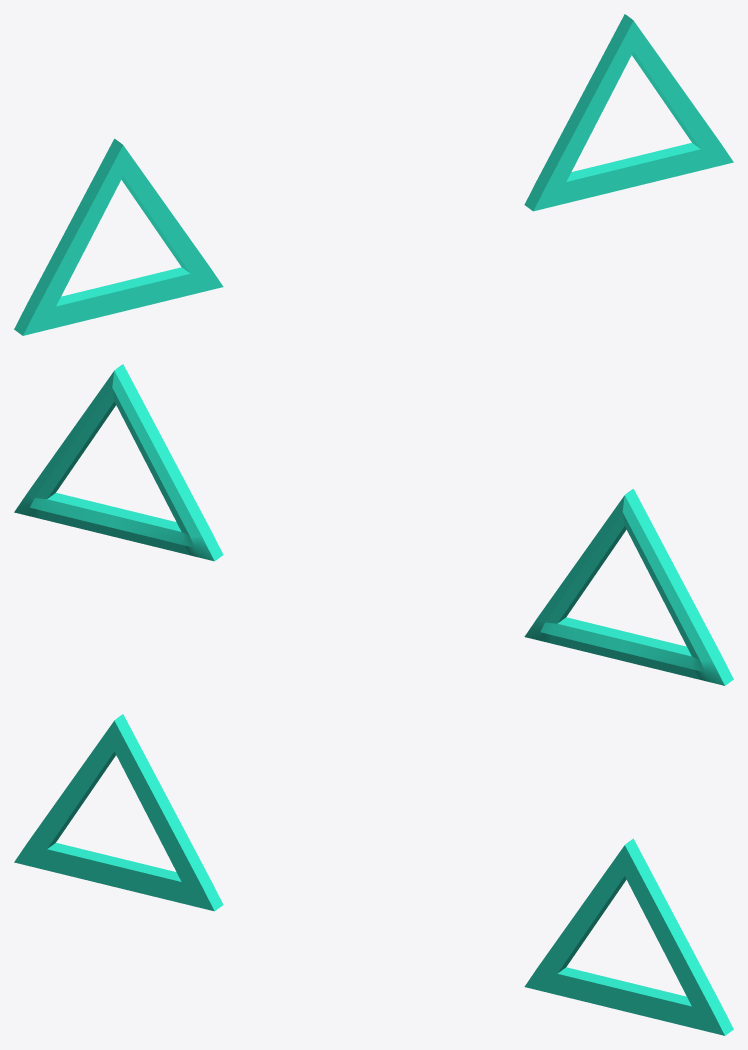
The model's file is yeux_triangle_machine_a_laver.fbx.
3 renders of one model, top to bottom at view 1: azimuth 30°, elevation 25°; view 2: azimuth 150°, elevation 25°; view 3: azimuth 330°, elevation 25°, orthographic.
Parts seen in each view (by area): view 1: Cube.017; view 2: Cube.017; view 3: Cube.017.
Boxes of the visible parts, <box> form: Cube.017: <box>14,14,733,335</box>; Cube.017: <box>14,364,733,685</box>; Cube.017: <box>14,714,733,1035</box>.
Bounding box in the file's own units: 44.05 × 9.86 × 1.18.
